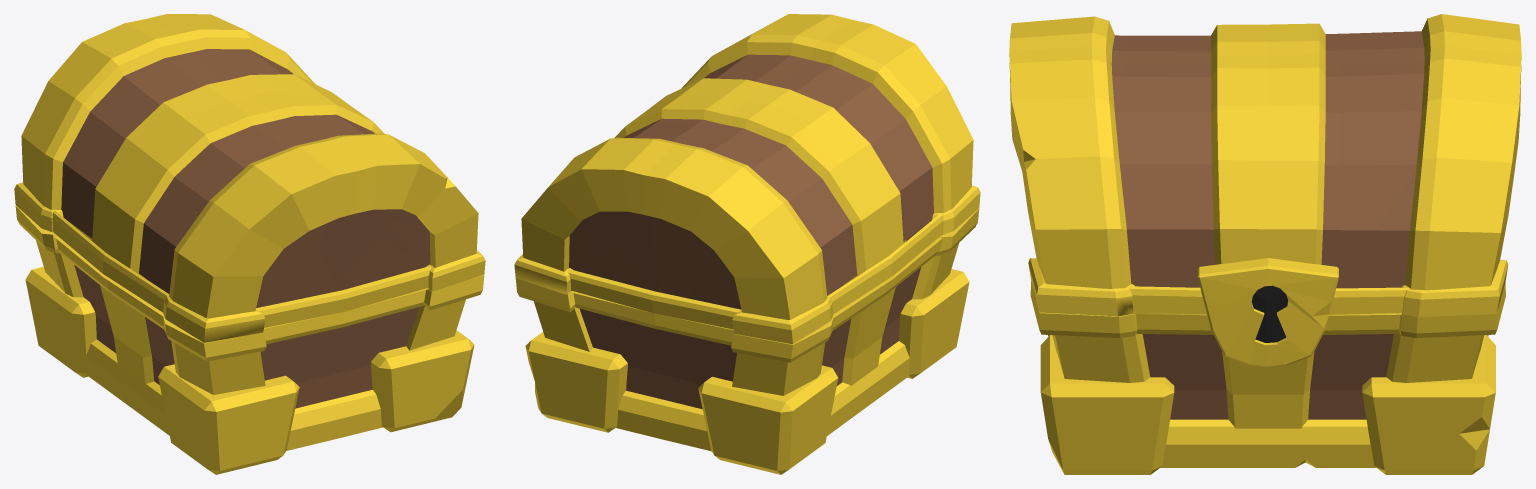
File: Chest_lowpoly.fbx
3 renders of one model, left to right at view 1: azimuth 30°, elevation 25°; view 2: azimuth 150°, elevation 25°; view 3: azimuth 270°, elevation 25°, orthographic. The views are drawn at different scales.
Parts seen in each view (by area): view 1: chestlid, chest; view 2: chestlid, chest; view 3: chestlid, chest.
Boxes of the visible parts, left/top/right/bottom form: chestlid: left=14, top=14, right=485, bottom=342; chest: left=15, top=206, right=484, bottom=474; chestlid: left=514, top=14, right=980, bottom=344; chest: left=515, top=208, right=979, bottom=474; chestlid: left=1009, top=14, right=1521, bottom=317; chest: left=1030, top=258, right=1505, bottom=474.
Bounding box in the file's own units: 196 × 186 × 239.
